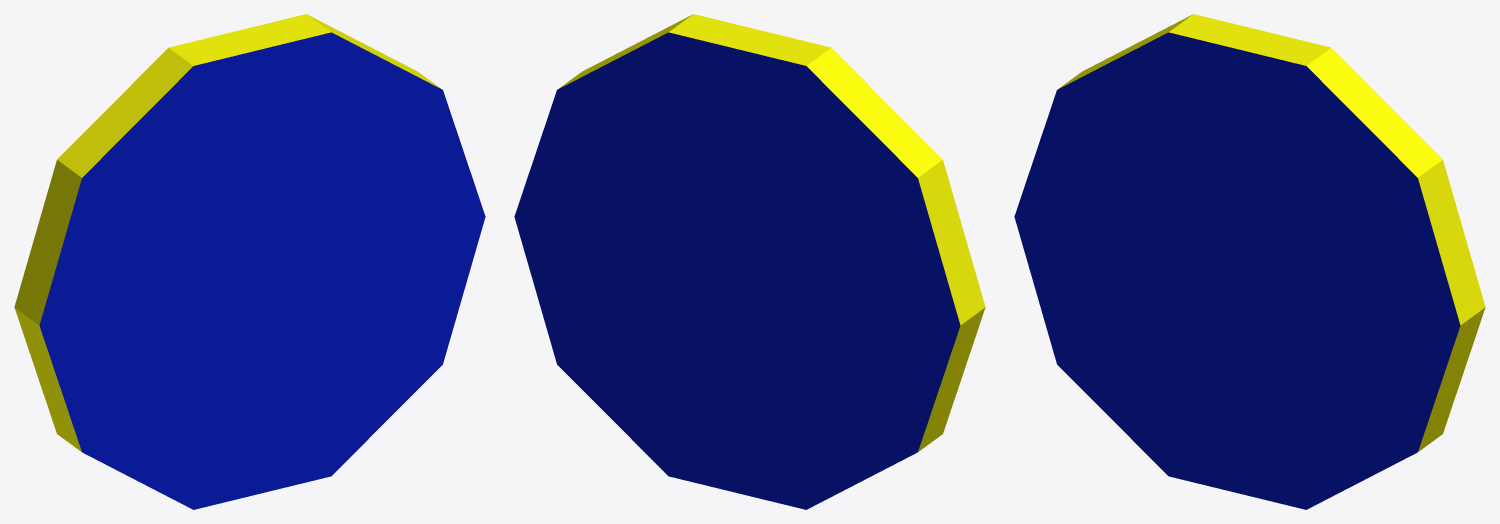
Rendered from coin-blue.glb.
3 renders of one model, left to right at view 1: azimuth 30°, elevation 25°; view 2: azimuth 150°, elevation 25°; view 3: azimuth 330°, elevation 25°, orthographic.
Size of the model in its own units: 21.61 by 20.56 by 2.1.
Materials: 1 (1 with a texture image).
